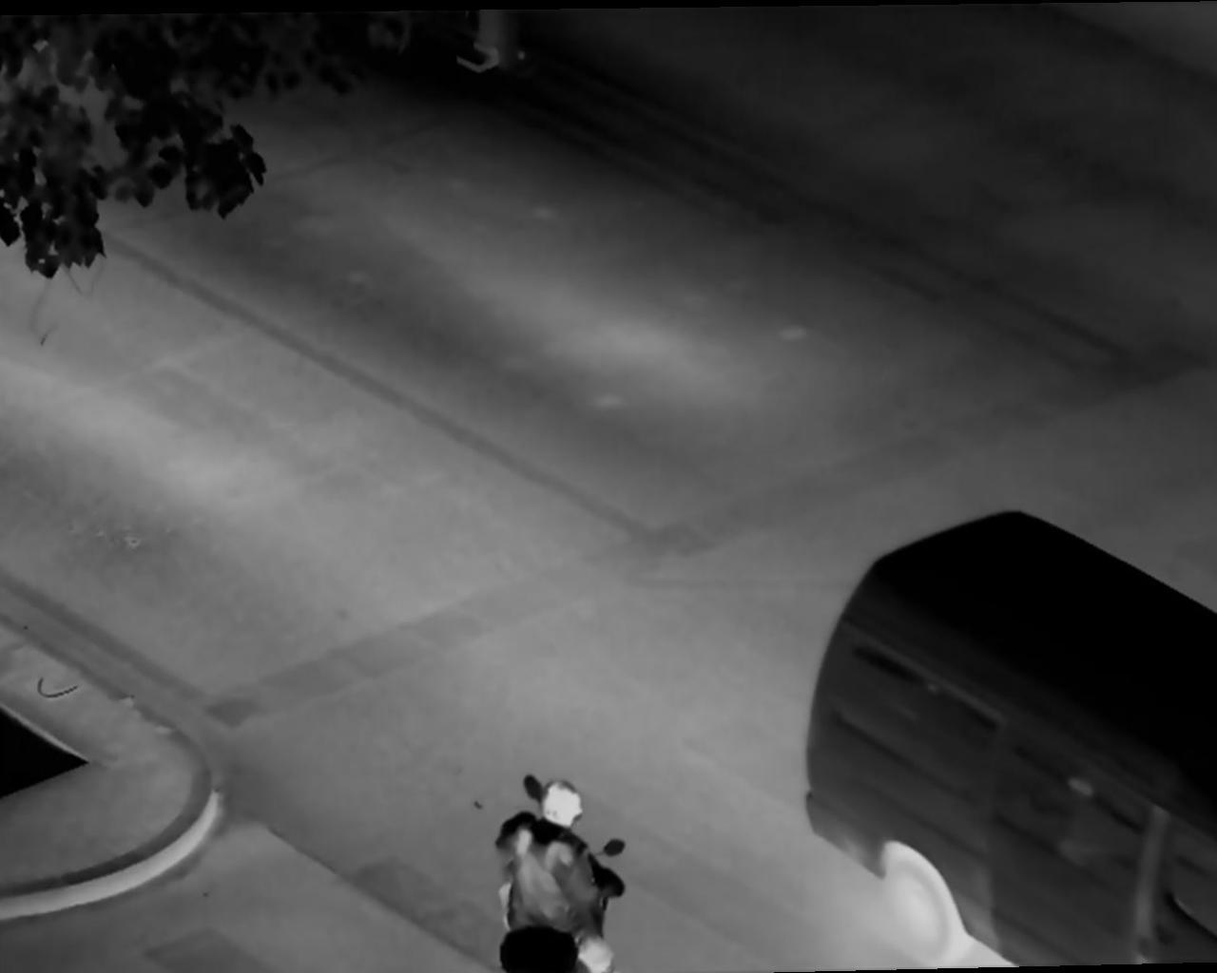person: (498, 771, 615, 973)
